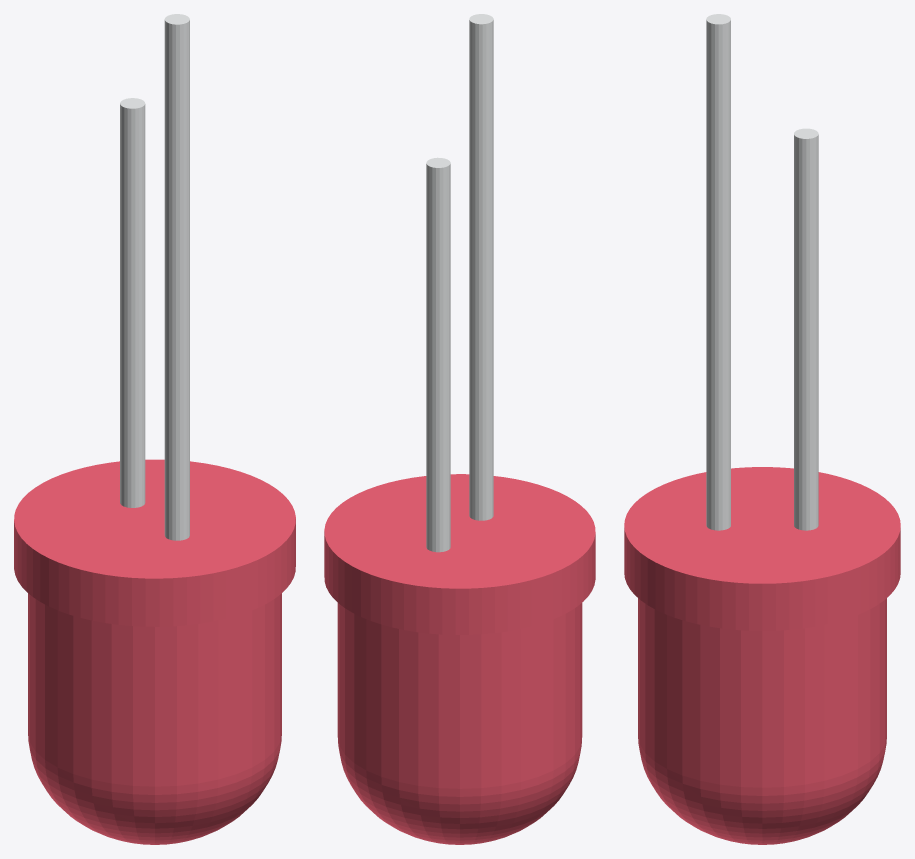
Rendered from LED.fbx.
3 renders of one model, left to right at view 1: azimuth 30°, elevation 25°; view 2: azimuth 150°, elevation 25°; view 3: azimuth 270°, elevation 25°, orthographic. The views are drawn at different scales.
Visible parts, largest first — view 1: obj_0; view 2: obj_0; view 3: obj_0.
Part boxes in pixels (x1,y1,x2,y2): obj_0: [14, 14, 295, 844]; obj_0: [324, 14, 595, 844]; obj_0: [624, 14, 900, 844].
Bounding box in the file's own units: 1100 × 3565 × 1100.
